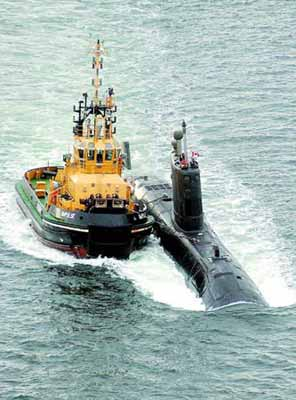otherboat: (12, 48, 146, 265)
